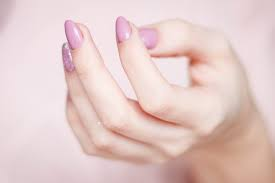hand: (41, 8, 252, 174)
